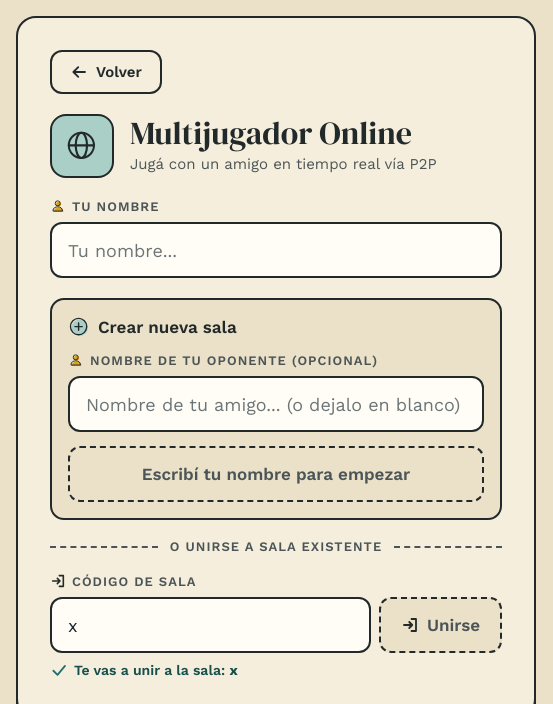
it: HomePage › unirse sin código muestra el error como alerta
In the field with placeholder "Tu nombre...": (276, 250) [50,222,502,278], type "Mateo"
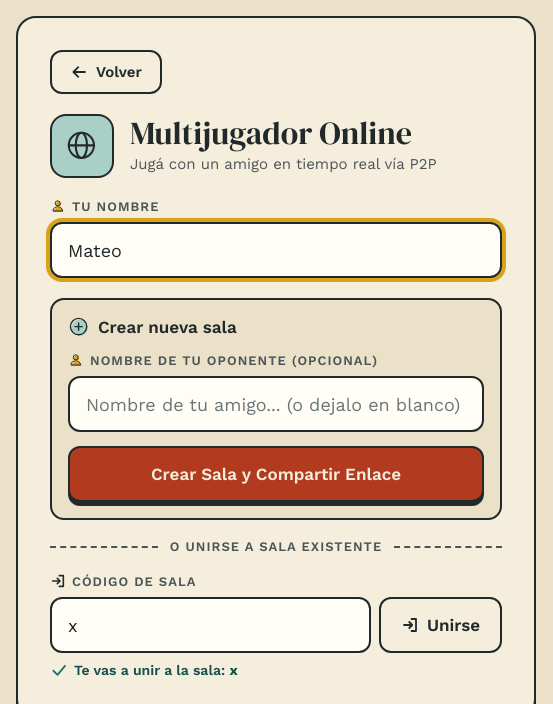
Clear the field with placeholder "ej. halcon-428 (o pegá el enlace de invitación)": (210, 625) [50,597,371,653]
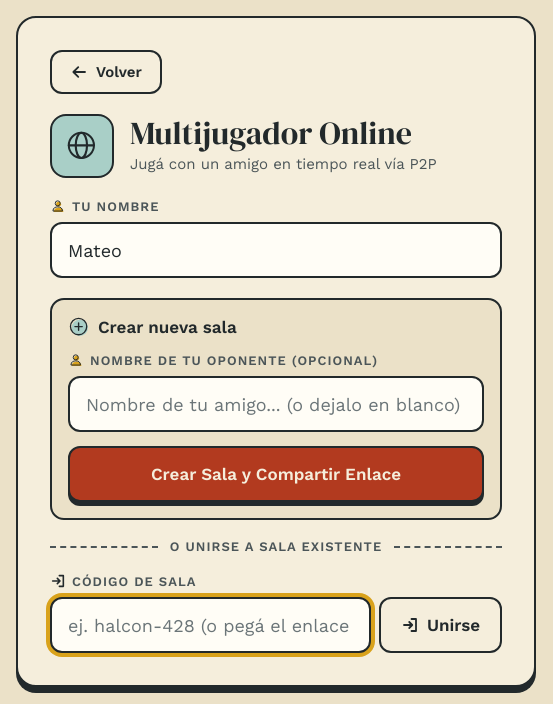
Click the button "Unirse": (440, 625) [379,597,502,653]
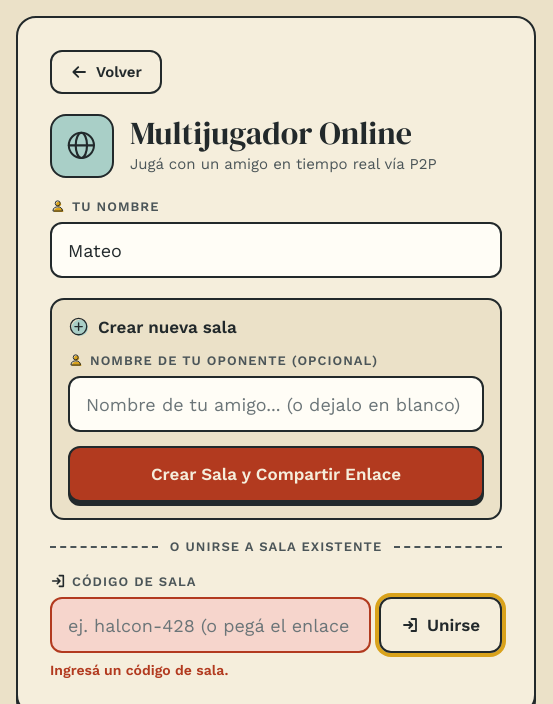
Result: the message reads "Ingresá un código de sala." at [50,662,228,678]
